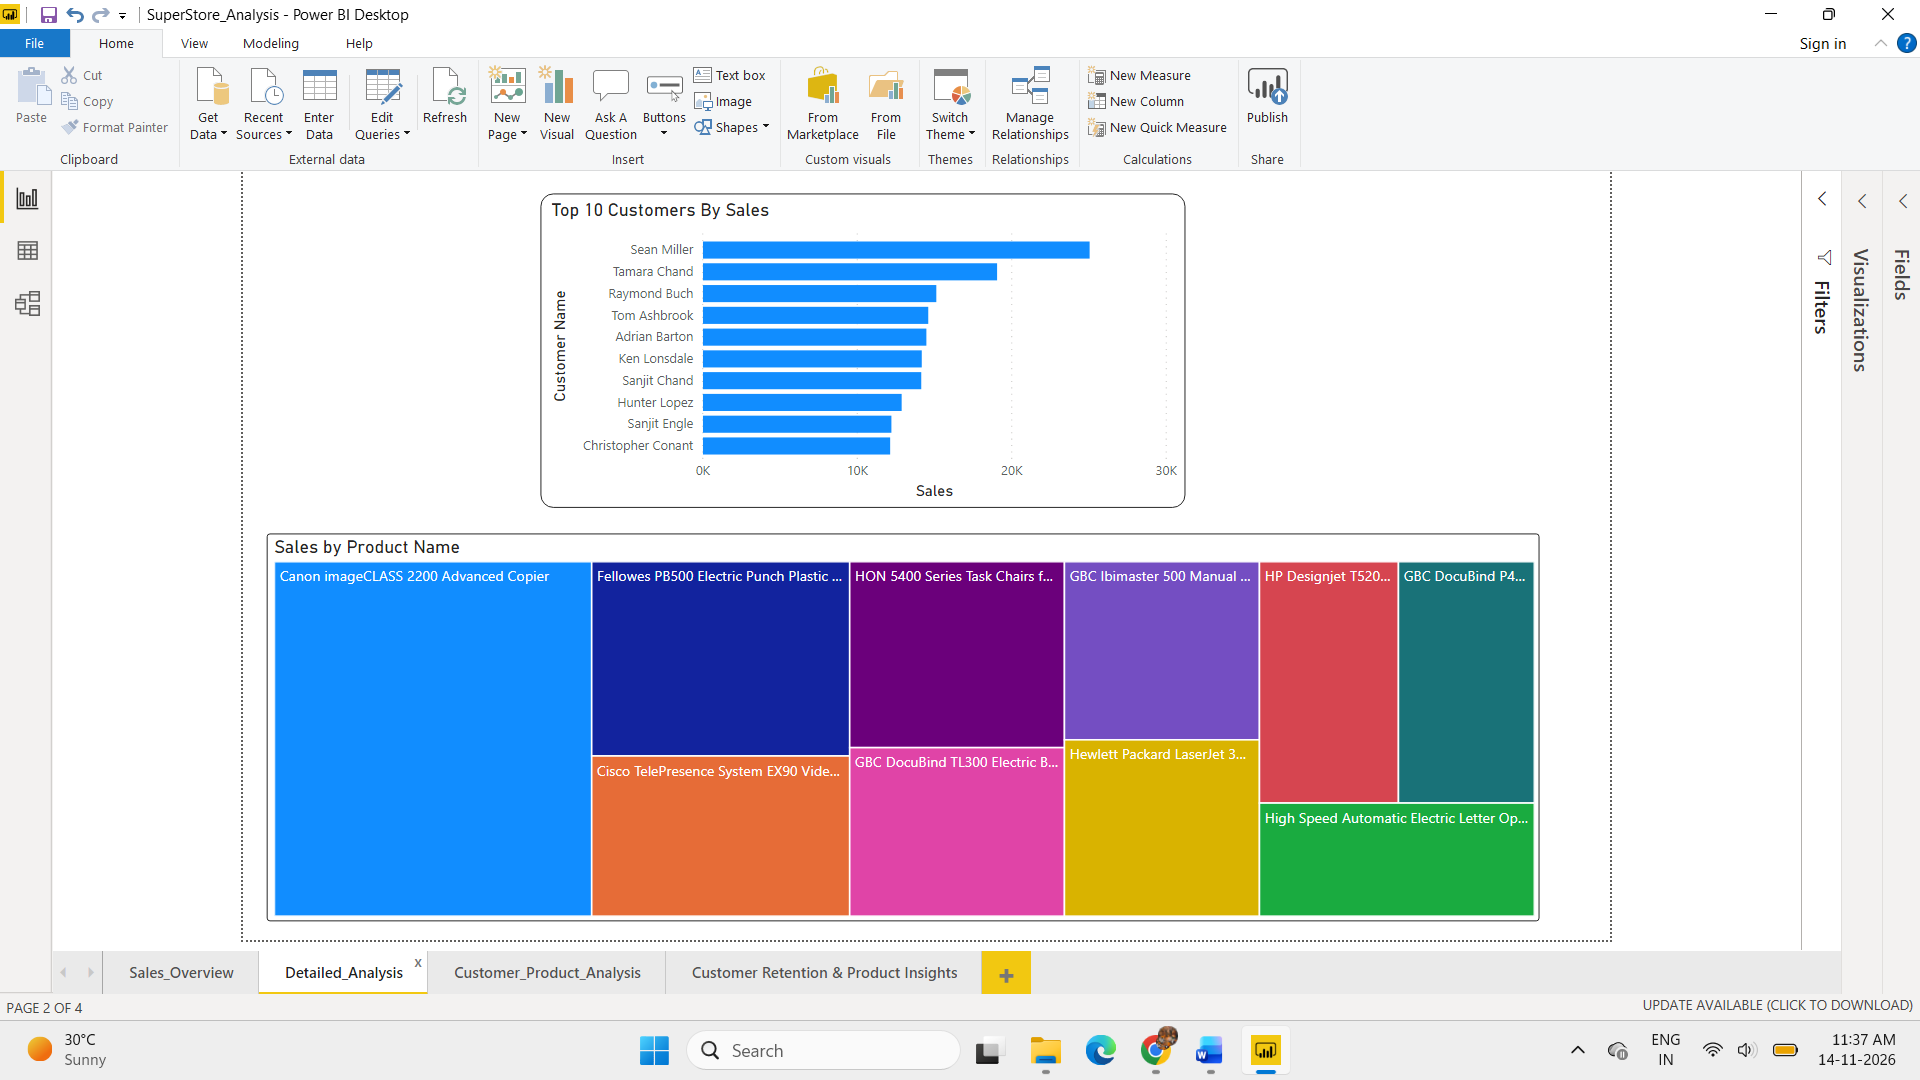

The dashboard page shown, as its layout file describes it:
{"tool":"powerbi","page":{"name":"Detailed_Analysis","canvas":[1280,720],"ordinal":1},"visuals":[{"type":"clusteredBarChart","title":"Top 10 Customers By Sales","fields":{"Category":["superstore.Customer Name"],"Y":["Sum(superstore.Sales)"]},"box":[278.2,20.6,604.4,294.6],"z":0},{"type":"treemap","fields":{"Values":["Sum(superstore.Sales)"],"Group":["superstore.Product Name"]},"box":[21.9,339.9,1192.3,363.2],"z":1000}]}

Visuals, with their boxes on the page's 1280x720 design canvas (x1, y1, x2, y2). These are canvas units, not pixel positions in the 1920x1080 screenshot, which may show the page scaled, cropped or inside an application window:
"Top 10 Customers By Sales" clusteredBarChart: l=278, t=21, r=883, b=315
treemap - Sum(superstore.Sales) x superstore.Product Name: l=22, t=340, r=1214, b=703
